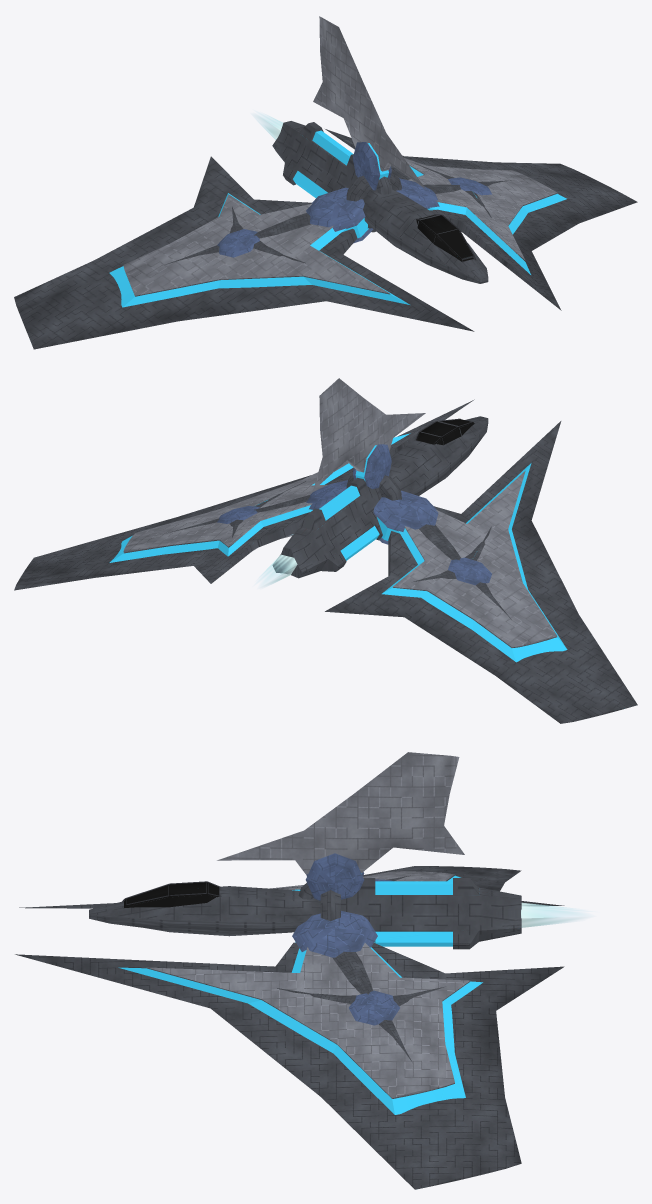
Rendered from ingenuity.gltf.
3 views of the same model, one above another, from view 1: azimuth 30°, elevation 25°; view 2: azimuth 150°, elevation 25°; view 3: azimuth 270°, elevation 25° (orthographic). The views are drawn at different scales.
Visible parts, largest first — view 1: Base; view 2: Base, Engine Glow; view 3: Base, Engine Glow.
Part boxes in pixels (x1,y1,x2,y2): Base: [14, 16, 637, 349]; Base: [14, 378, 637, 723]; Engine Glow: [260, 554, 297, 585]; Base: [15, 752, 564, 1189]; Engine Glow: [521, 902, 580, 927].
Size of the model in its own units: 0.7711 by 0.3062 by 0.6279.
2 materials, 2 textured.
